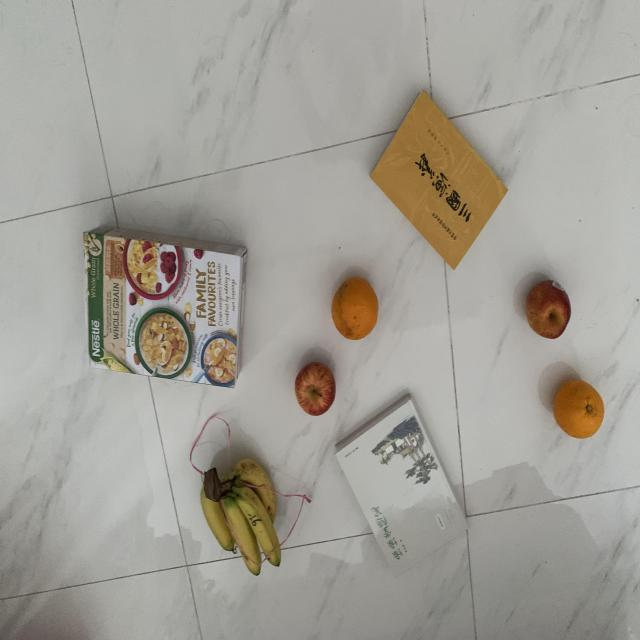Apple: (517, 266, 581, 344), (286, 354, 341, 421)
Banana: (195, 451, 290, 583)
Book: (365, 87, 513, 281), (332, 394, 473, 579)
Cerealbox: (75, 207, 251, 402)
Orange: (546, 371, 608, 443), (325, 272, 383, 344)
